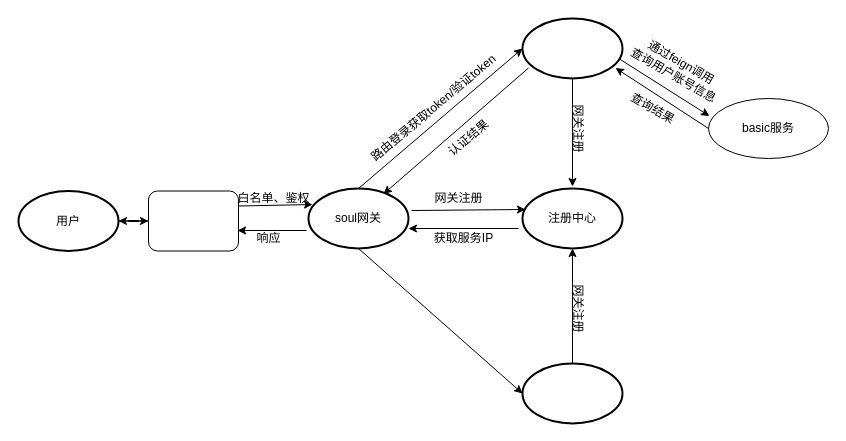
This 846x441 diagram has some shape labels left out. The centre of each missing label's shape, as x and y in pixels:
auth认证服务: point 572,48
nginx反向代理: point 193,220
